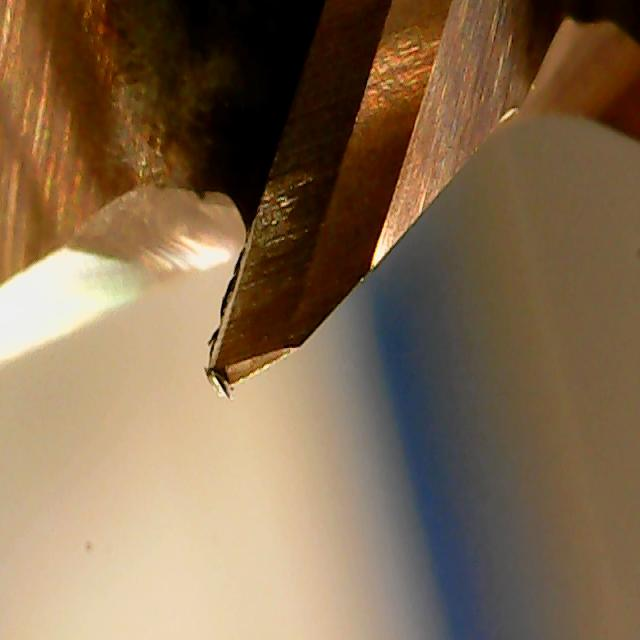Tool-wear-class-1: (186, 165, 399, 408)
